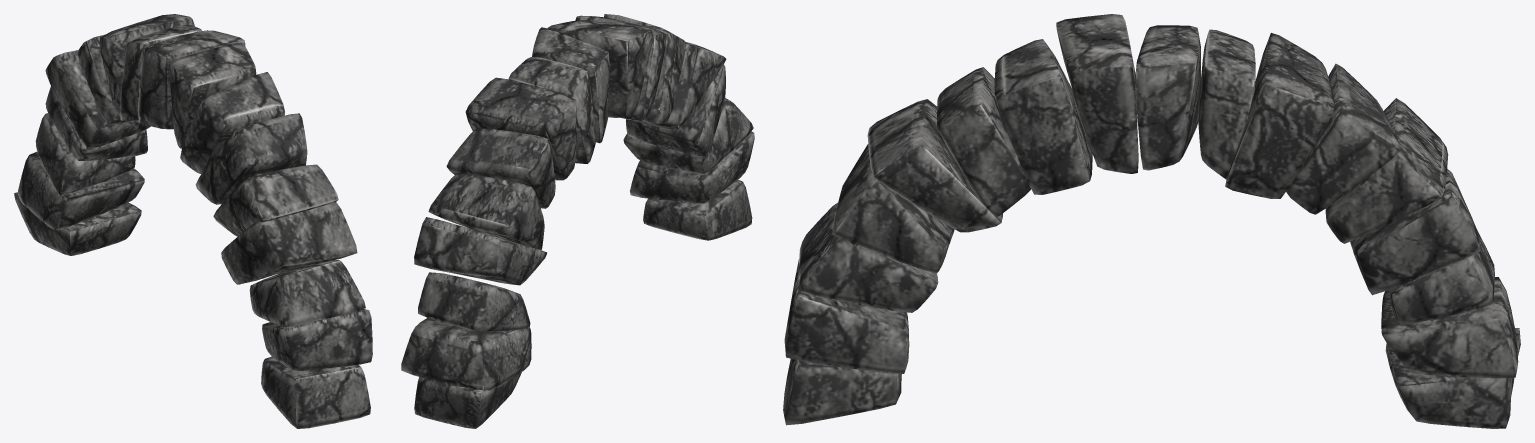
File: StoneGateArcWT.fbx
3 views of the same model, side by side, from view 1: azimuth 30°, elevation 25°; view 2: azimuth 150°, elevation 25°; view 3: azimuth 270°, elevation 25° (orthographic). The views are drawn at different scales.
Parts seen in each view (by area): view 1: Cube; view 2: Cube; view 3: Cube.
Boxes of the visible parts, x1,y1,x2,y2 form: Cube: (14,14,372,428); Cube: (401,14,754,428); Cube: (783,14,1520,428).
Size of the model in its own units: 238 by 684 by 1214.
1 material, 1 textured.
